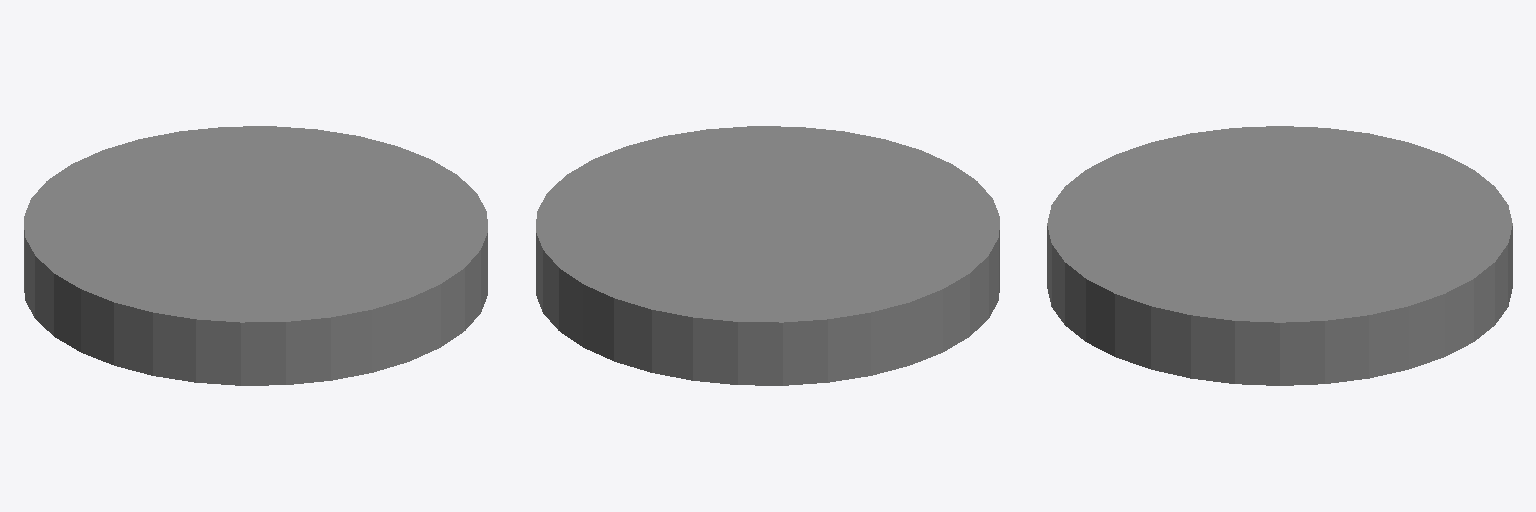
File: coin2.obj
The picture shows the model from 3 angles: view 1: azimuth 30°, elevation 25°; view 2: azimuth 150°, elevation 25°; view 3: azimuth 270°, elevation 25°; orthographic projection.
Parts seen in each view (by area): view 1: default; view 2: default; view 3: default.
Part boxes in pixels (x1,y1,x2,y2): default: (24,126,487,385); default: (536,126,999,385); default: (1047,126,1512,385).
Size of the model in its own units: 2 by 0.3 by 2.